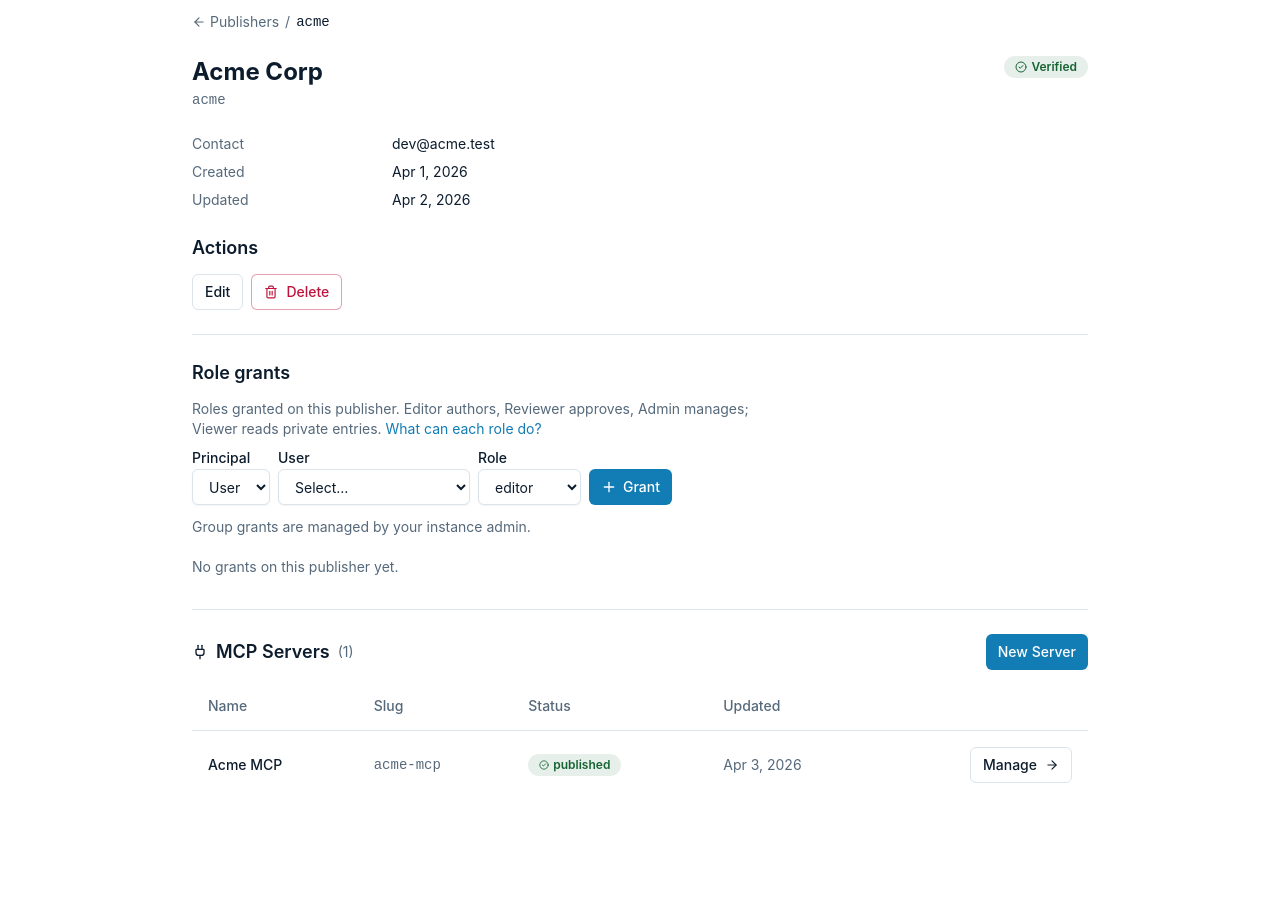
it: AdminPublisherDetail › reveals a confirmation panel with the cascade resource counts
Check: the heading "Acme Corp" is shown, box x1=192 y1=57 x2=323 y2=86
Click the button "Delete" at point(297, 292), box x1=251 y1=274 x2=342 y2=310
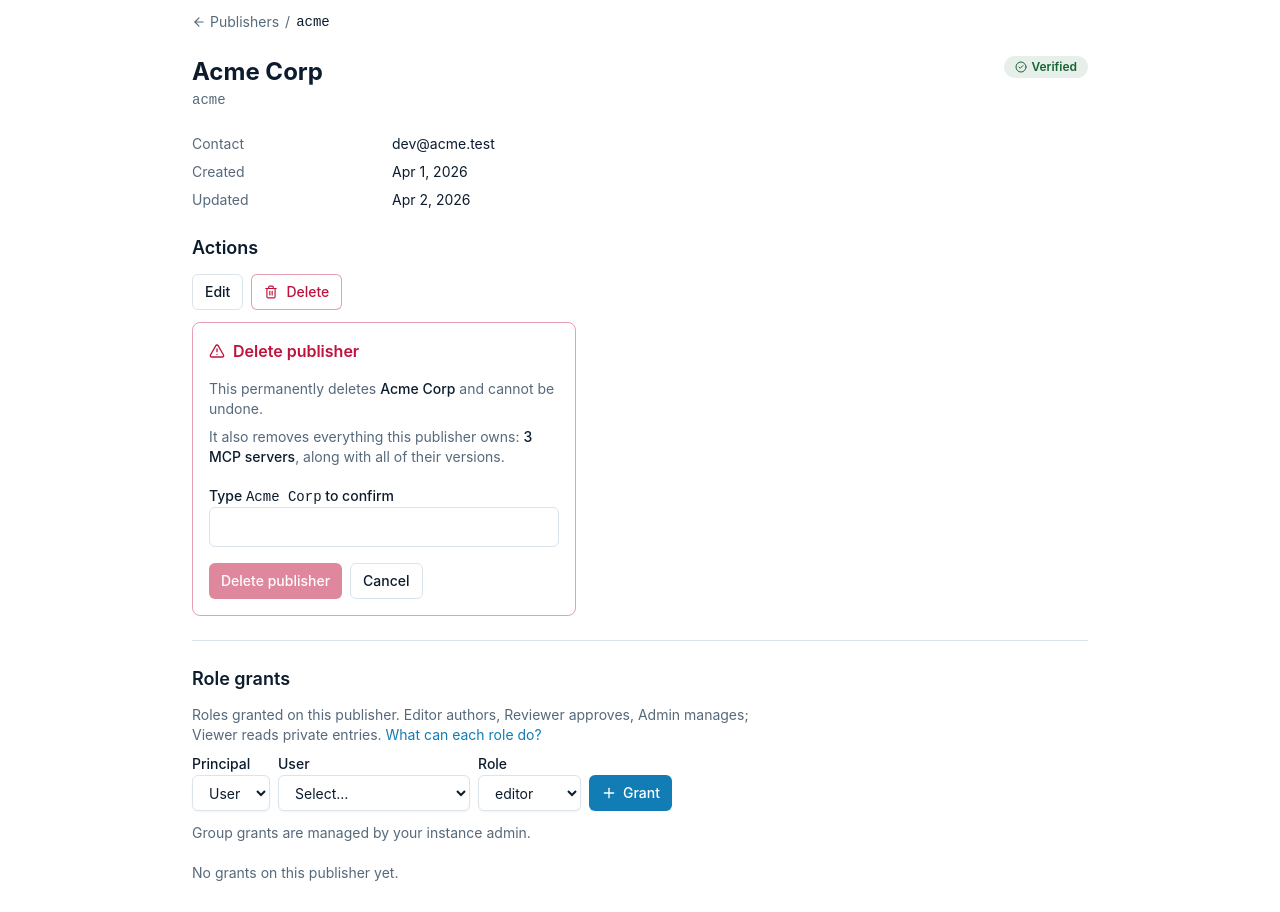
Check: the text "3 MCP servers" is shown, box x1=209 y1=428 x2=532 y2=465
